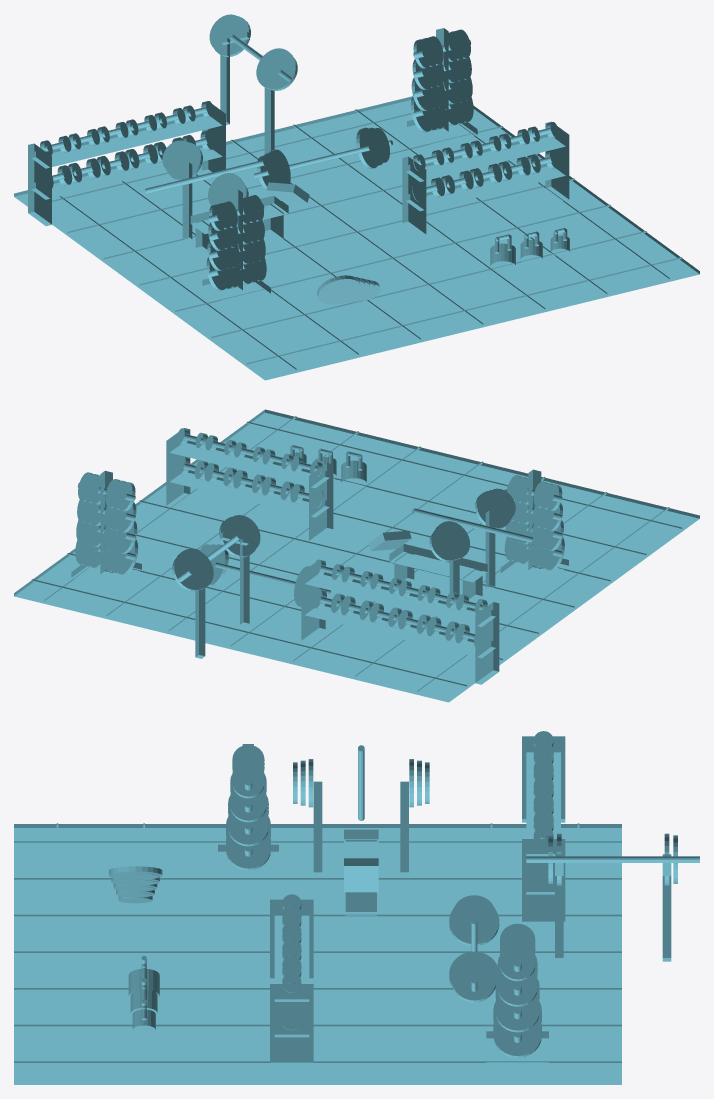
Rendered from gym3.glb.
3 renders of one model, top to bottom at view 1: azimuth 30°, elevation 25°; view 2: azimuth 150°, elevation 25°; view 3: azimuth 270°, elevation 25°, orthographic. The views are drawn at different scales.
Parts seen in each view (by area): view 1: FloorMat, DumbbellRackBack, DumbbellRack, PlateTreeBack, PlateTree, BenchPress, SquatStand, Barbell, Kettlebells, LoosePlates; view 2: FloorMat, DumbbellRackBack, DumbbellRack, BenchPress, PlateTreeBack, PlateTree, SquatStand, Kettlebells, Barbell; view 3: FloorMat, DumbbellRack, DumbbellRackBack, BenchPress, PlateTreeBack, PlateTree, Barbell, SquatStand, Kettlebells, LoosePlates.
Boxes of the visible parts, x1=… form: FloorMat: x1=14, y1=96, x2=699, y2=380; DumbbellRackBack: x1=28, y1=101, x2=225, y2=226; DumbbellRack: x1=402, y1=121, x2=569, y2=235; PlateTreeBack: x1=407, y1=28, x2=477, y2=145; PlateTree: x1=202, y1=189, x2=270, y2=303; BenchPress: x1=145, y1=140, x2=309, y2=256; SquatStand: x1=209, y1=14, x2=297, y2=153; Barbell: x1=254, y1=127, x2=392, y2=189; Kettlebells: x1=490, y1=228, x2=569, y2=271; LoosePlates: x1=317, y1=275, x2=380, y2=304; FloorMat: x1=14, y1=409, x2=699, y2=702; DumbbellRackBack: x1=301, y1=559, x2=499, y2=684; DumbbellRack: x1=166, y1=428, x2=333, y2=542; BenchPress: x1=368, y1=488, x2=532, y2=602; PlateTreeBack: x1=71, y1=470, x2=141, y2=588; PlateTree: x1=500, y1=469, x2=568, y2=583; SquatStand: x1=172, y1=515, x2=260, y2=658; Kettlebells: x1=289, y1=445, x2=366, y2=488; Barbell: x1=199, y1=544, x2=330, y2=606; FloorMat: x1=14, y1=823, x2=621, y2=1084; DumbbellRack: x1=270, y1=894, x2=313, y2=1066; DumbbellRackBack: x1=522, y1=731, x2=565, y2=925; BenchPress: x1=293, y1=745, x2=429, y2=915; PlateTreeBack: x1=486, y1=923, x2=548, y2=1064; PlateTree: x1=218, y1=744, x2=278, y2=877; Barbell: x1=449, y1=895, x2=499, y2=1002; SquatStand: x1=526, y1=833, x2=699, y2=961; Kettlebells: x1=128, y1=955, x2=159, y2=1035; LoosePlates: x1=109, y1=866, x2=162, y2=903.
Bounding box in the file's own units: 7.15 × 1.67 × 7.9.
